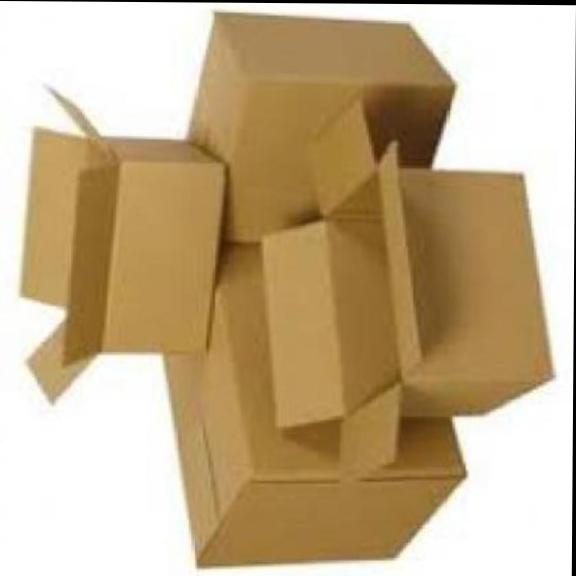Kertas: (257, 105, 552, 488), (19, 87, 225, 412), (184, 13, 453, 245), (191, 14, 453, 240)
